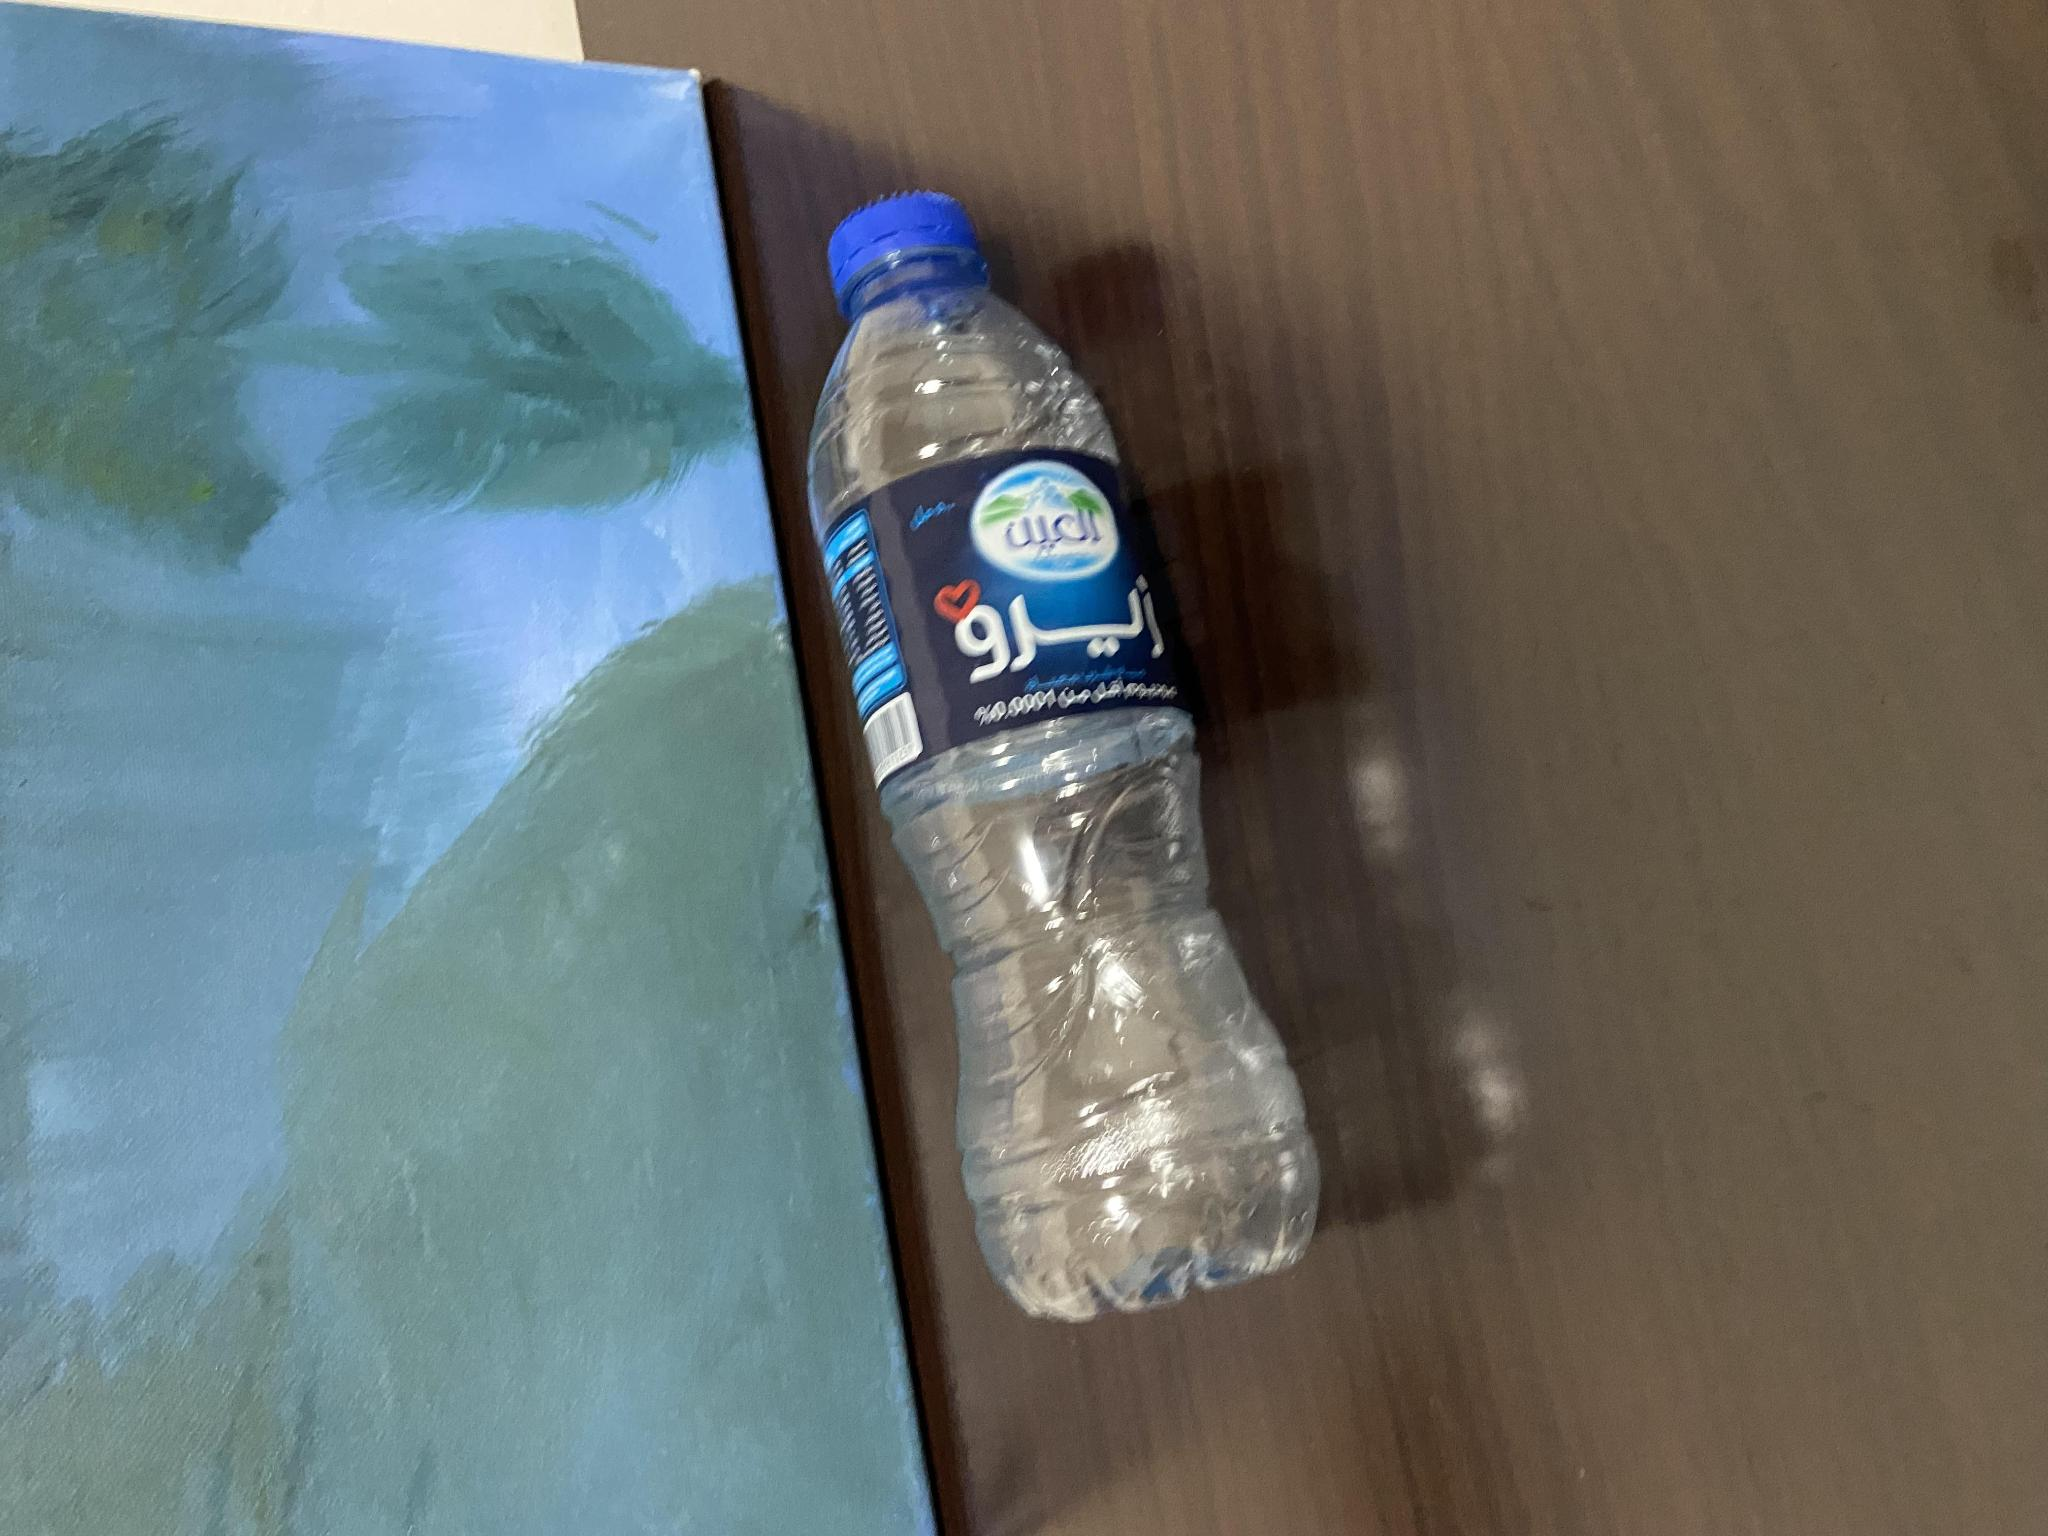bottle: (795, 186, 1338, 1342)
